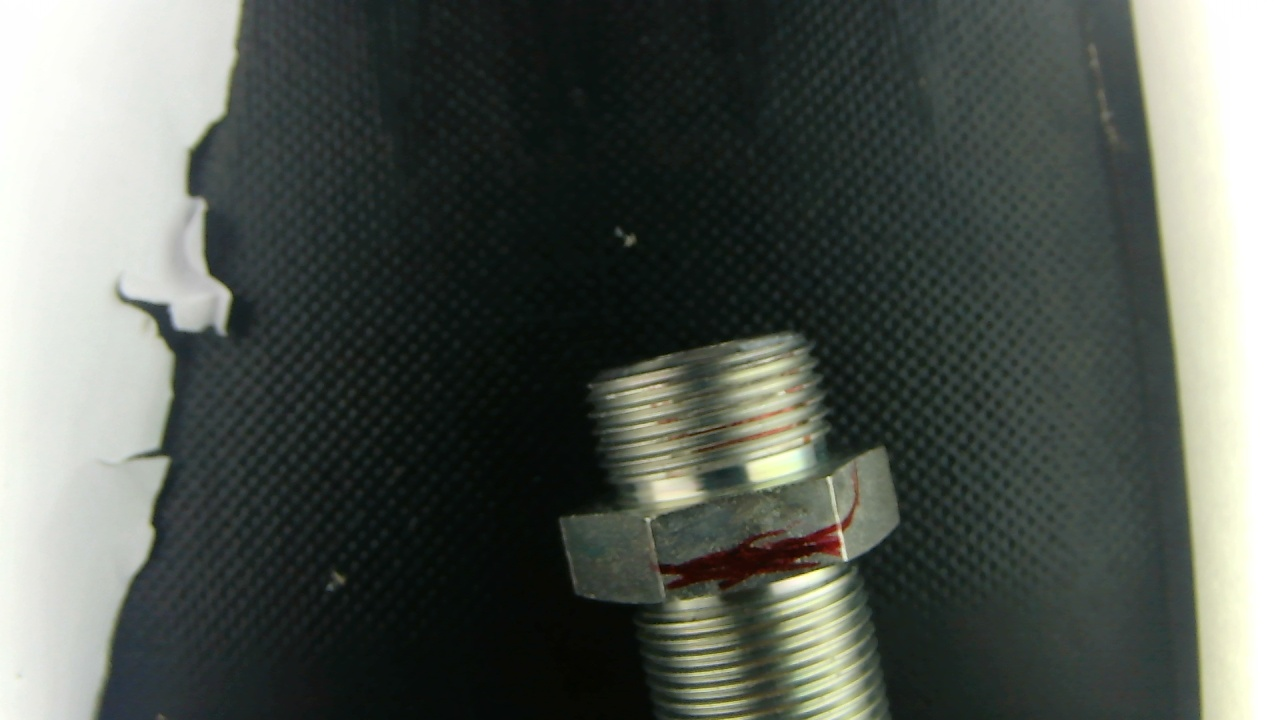blackpatch: (643, 469, 849, 563)
